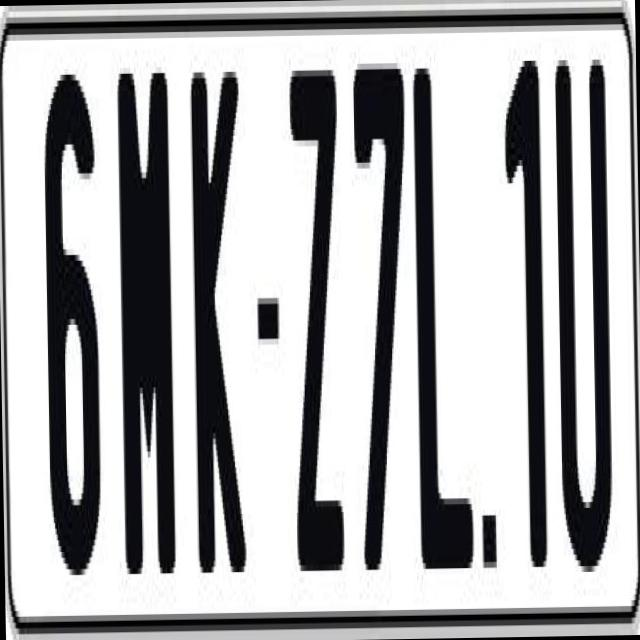1: (503, 59, 555, 590)
6: (40, 56, 102, 593)
7: (348, 62, 408, 570)
K: (188, 54, 250, 573)
L: (411, 49, 481, 574)
M: (115, 72, 175, 591)
U: (553, 53, 613, 595)
Z: (284, 69, 348, 600)
